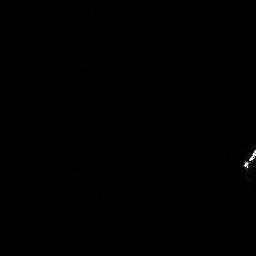ship: (242, 145, 256, 172)
